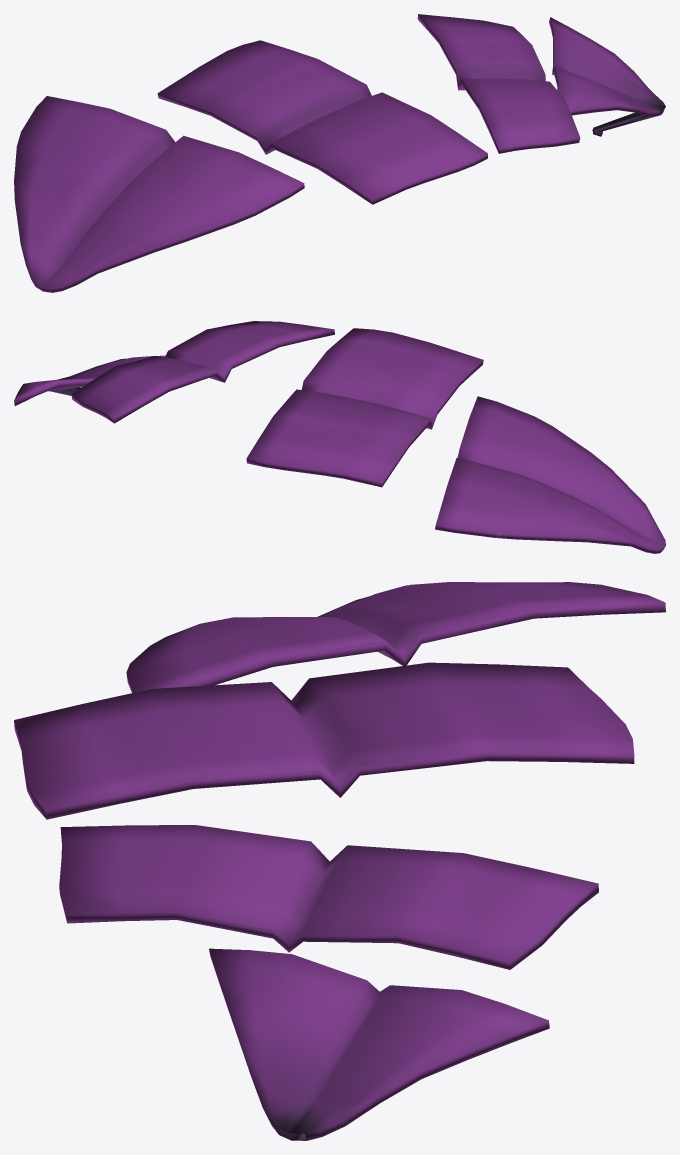
File: FolhaFlorestaSombria_cortada.fbx
The picture shows the model from 3 angles, top to bottom: view 1: azimuth 30°, elevation 25°; view 2: azimuth 150°, elevation 25°; view 3: azimuth 270°, elevation 25°; orthographic projection. The views are drawn at different scales.
Parts seen in each view (by area): view 1: FolhaFloresta_cortado; view 2: FolhaFloresta_cortado; view 3: FolhaFloresta_cortado.
Part boxes in pixels (x1,y1,x2,y2): FolhaFloresta_cortado: (14, 14, 665, 292); FolhaFloresta_cortado: (14, 321, 665, 553); FolhaFloresta_cortado: (14, 582, 665, 1140).
Bounding box in the file's own units: 269 × 41.69 × 137.
1 material, 1 textured.
